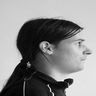ear: (34, 36, 59, 60)
